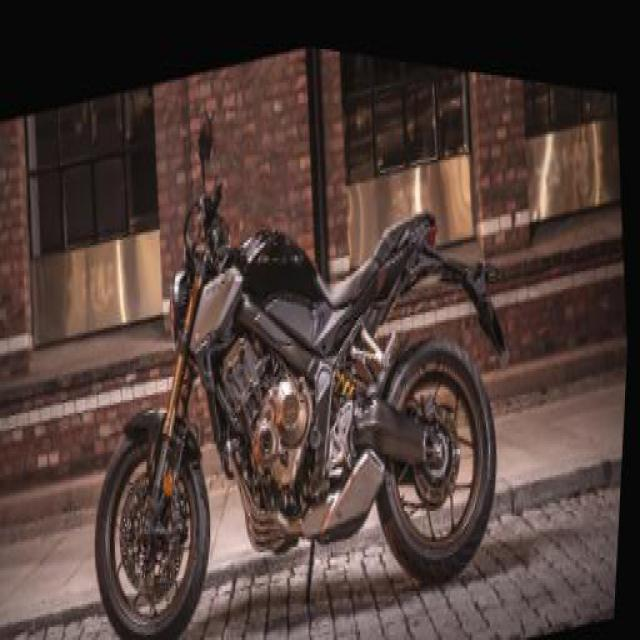CB650R: (67, 103, 525, 638)
